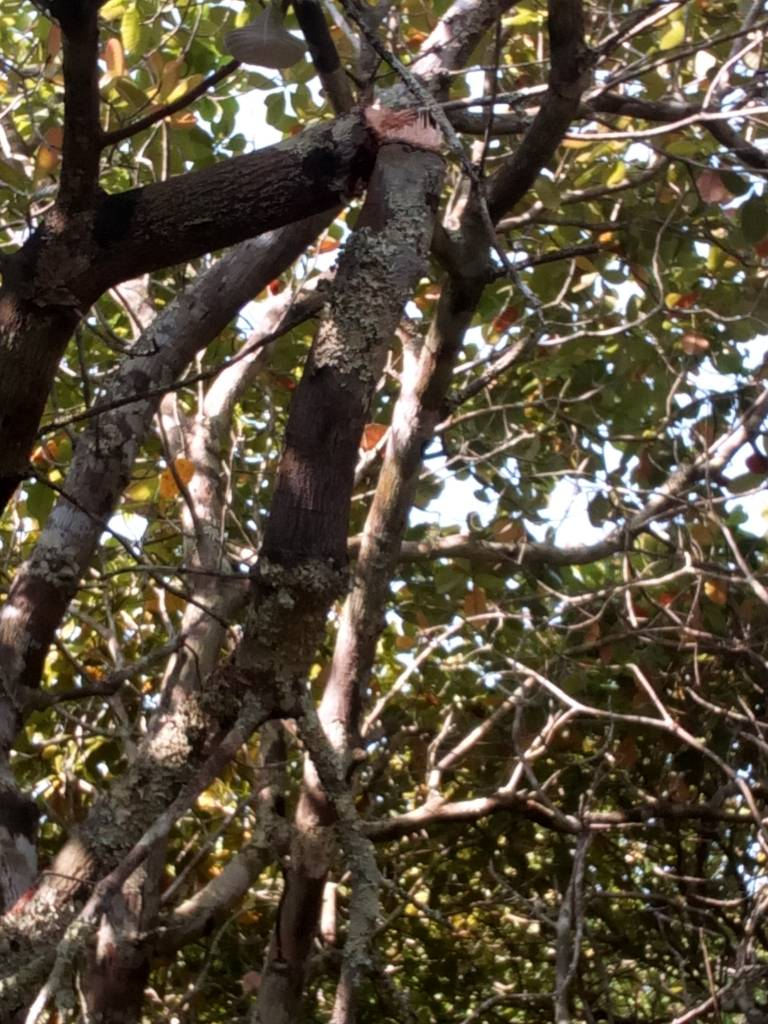Analepse trifasciata: (346, 92, 460, 203)
